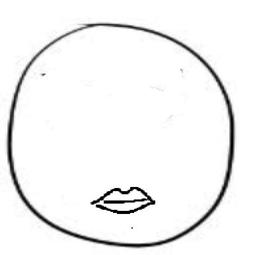cupid_mouth: (85, 178, 160, 222)
